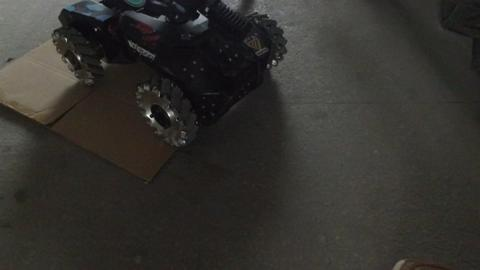chariot: (50, 3, 290, 151)
